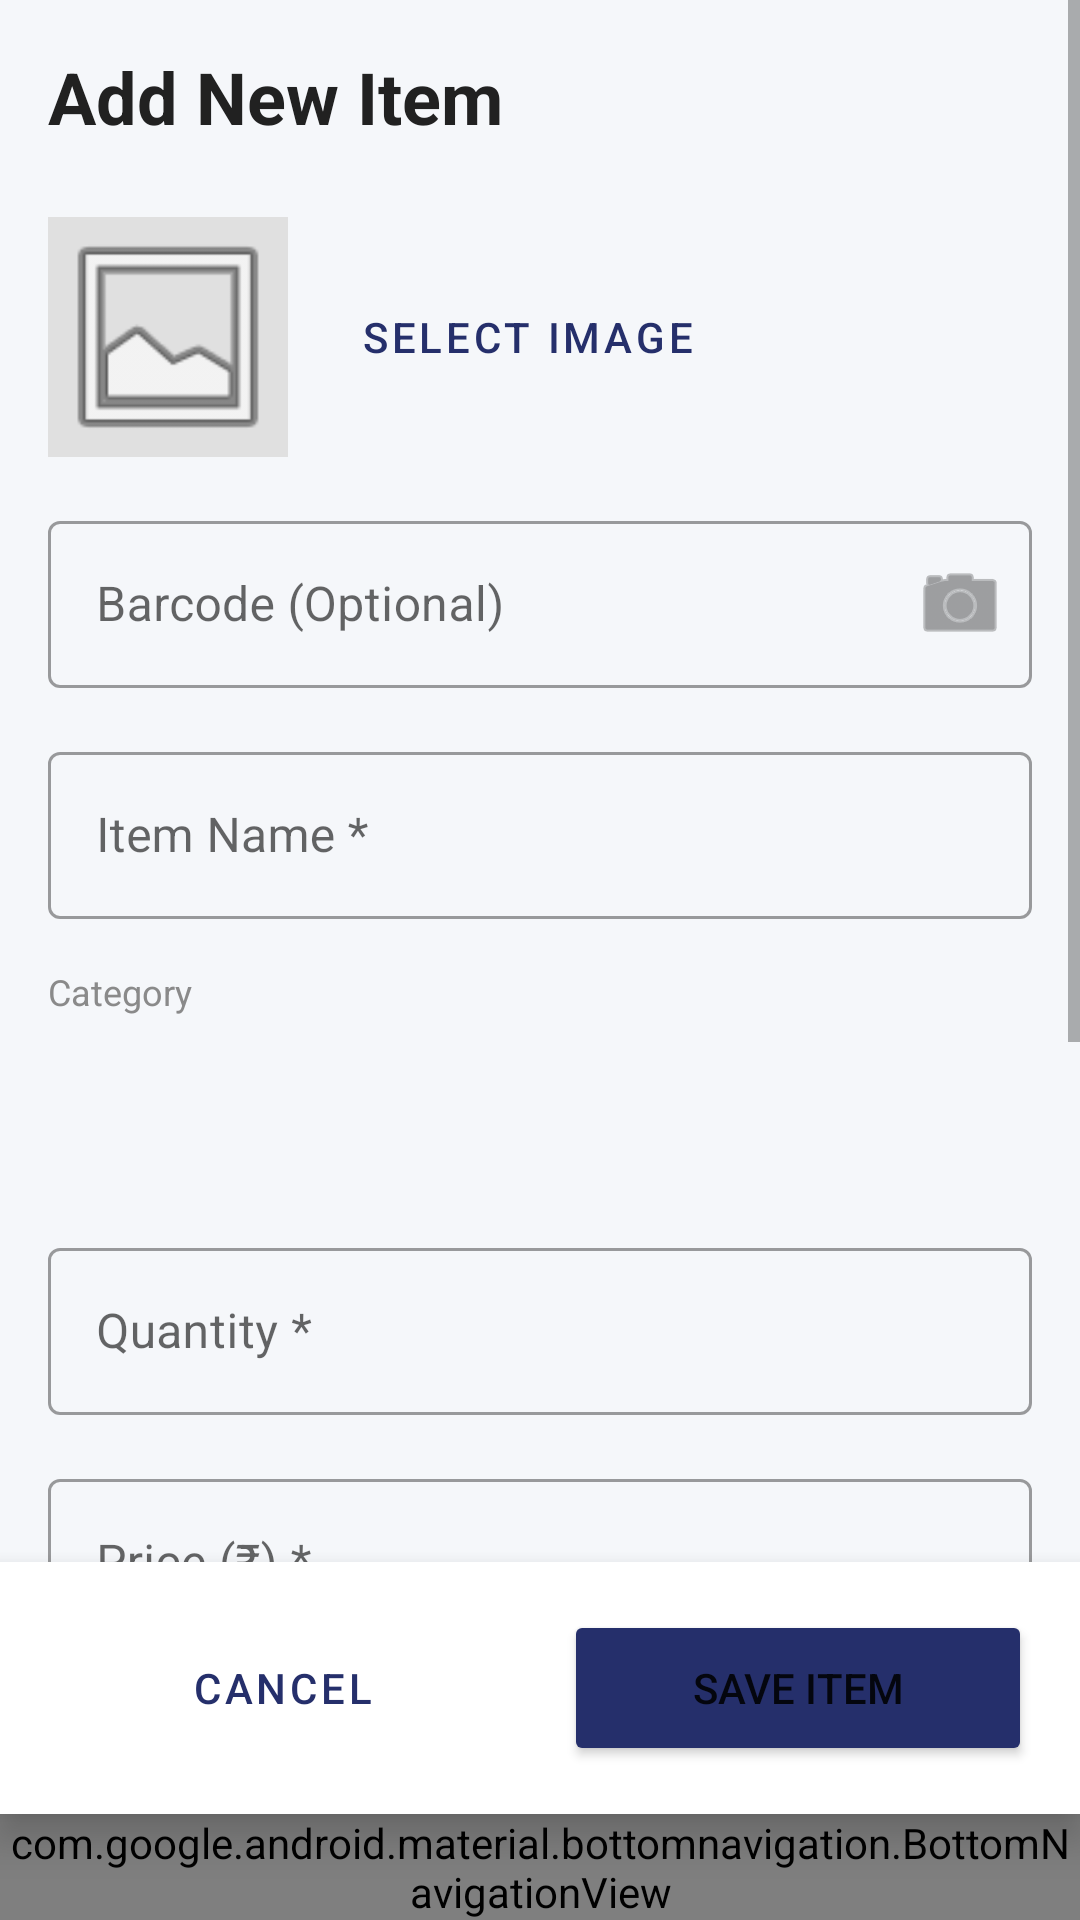

Icon bounding boxes for this 1080 x 1920 phone screenshot, format region(x1, y1, x2, y2):
gallery: region(48, 217, 288, 457)
